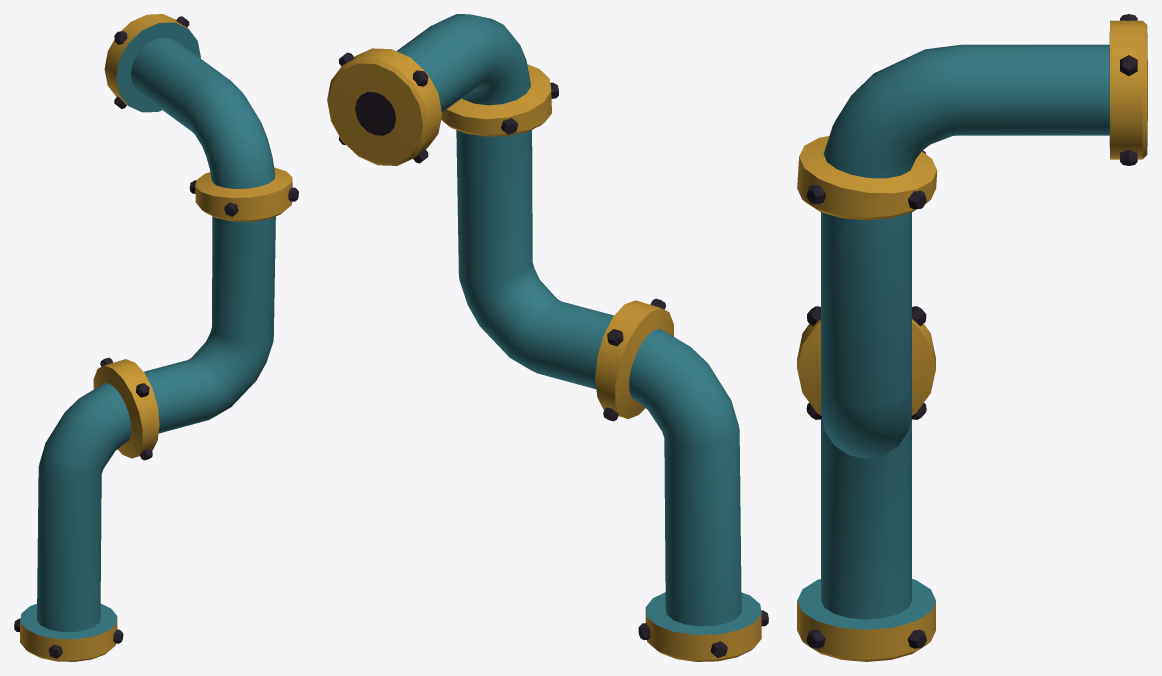
File: PipeRun_31.glb
The picture shows the model from 3 angles, left to right: view 1: azimuth 30°, elevation 25°; view 2: azimuth 150°, elevation 25°; view 3: azimuth 270°, elevation 25°; orthographic projection. The views are drawn at different scales.
Visible parts, largest first — view 1: PipeRun_31; view 2: PipeRun_31; view 3: PipeRun_31.
Boxes of the visible parts, x1,y1,x2,y2 form: PipeRun_31: [14, 14, 298, 661]; PipeRun_31: [327, 14, 768, 661]; PipeRun_31: [797, 14, 1147, 661].
Size of the model in its own units: 3.38 by 6.37 by 2.78.
